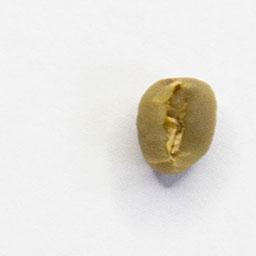peaberry: (131, 72, 221, 178)
